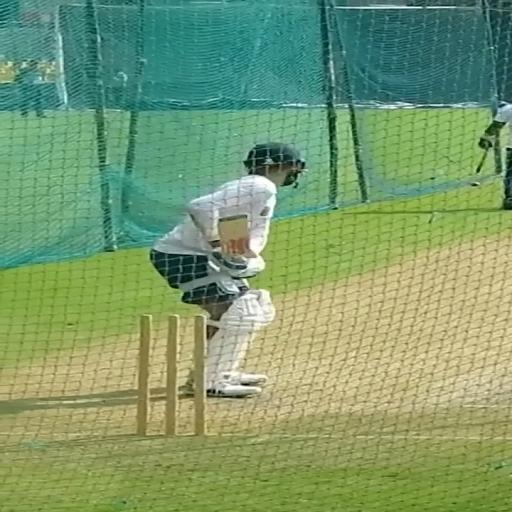Cricket bat: (218, 214, 249, 255)
